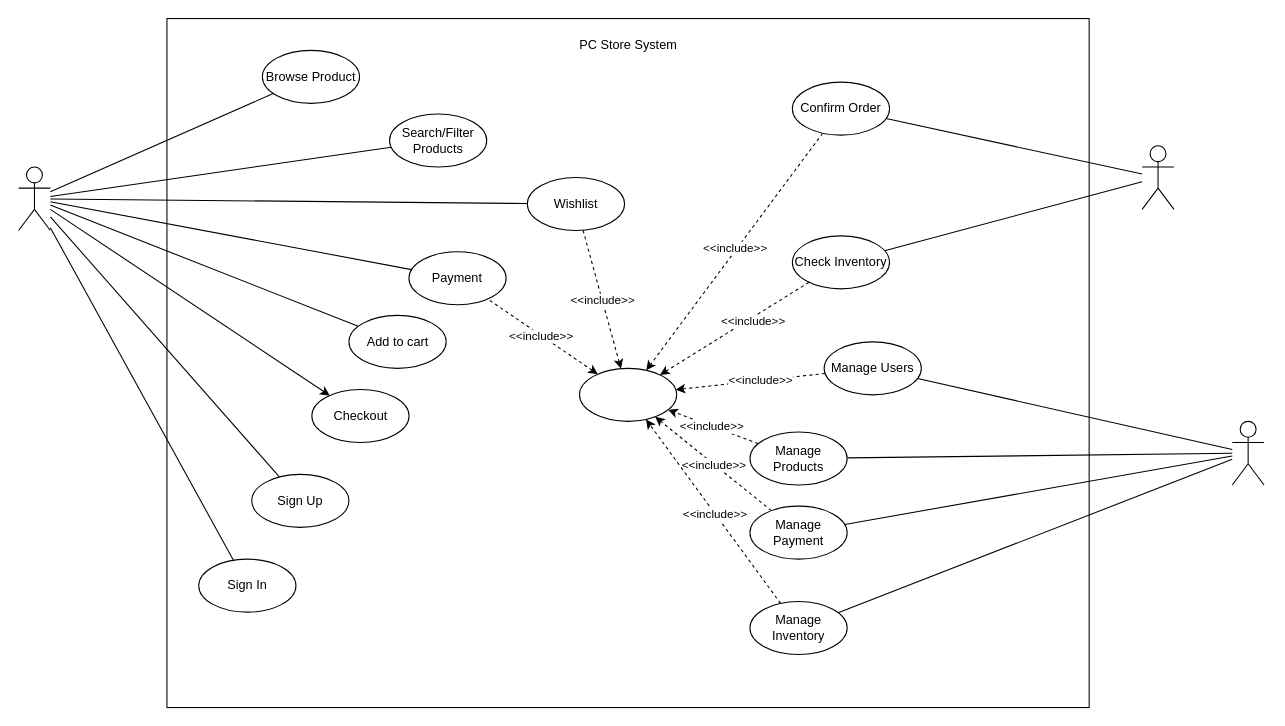
The diagram is 1285 pixels wide and 726 high, and some of its shapes have lost their labels. Here are the shapes that lost their labels. From the top down, the box of each, then its label:
(1141, 145, 1174, 209): Staff
(17, 166, 50, 231): Client
(578, 367, 677, 421): Authenticate
(1231, 420, 1264, 485): Admin
